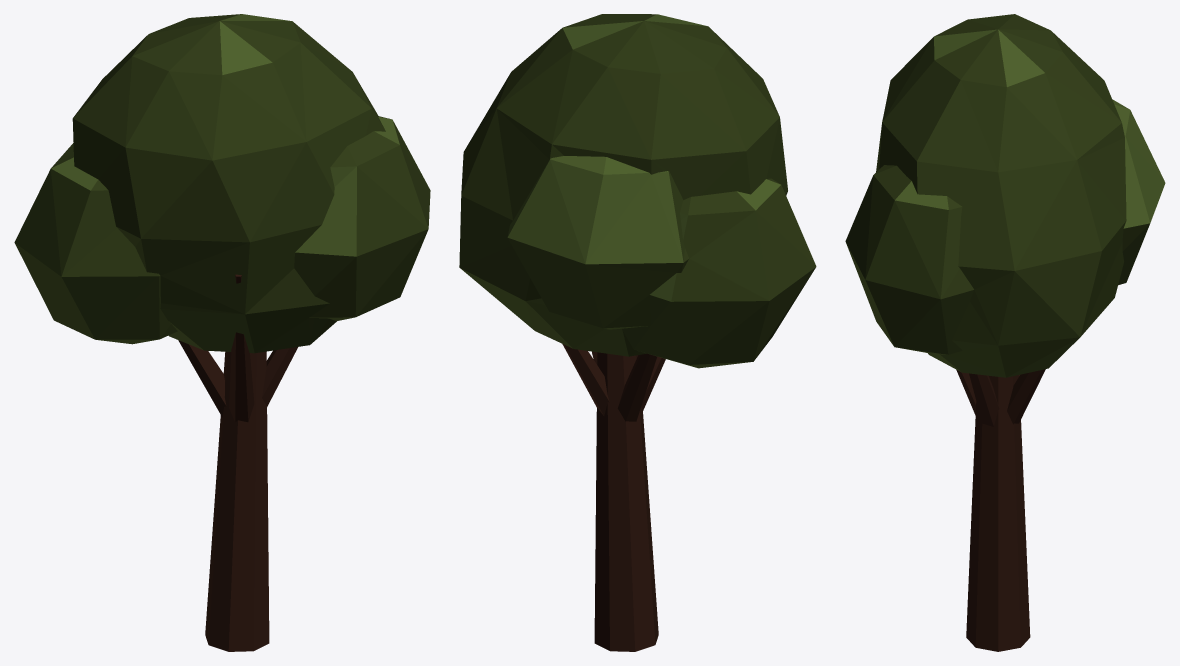
Rendered from Tree_Oak_03.fbx.
The picture shows the model from 3 angles, left to right: view 1: azimuth 30°, elevation 25°; view 2: azimuth 150°, elevation 25°; view 3: azimuth 270°, elevation 25°; orthographic projection. The views are drawn at different scales.
Visible parts, largest first — view 1: Tree_Oak_03_Foliage, Tree_Oak_03_Trunk; view 2: Tree_Oak_03_Foliage, Tree_Oak_03_Trunk; view 3: Tree_Oak_03_Foliage, Tree_Oak_03_Trunk.
Boxes of the visible parts, left/top/right/bottom form: Tree_Oak_03_Foliage: left=14, top=14, right=430, bottom=353; Tree_Oak_03_Trunk: left=178, top=274, right=297, bottom=651; Tree_Oak_03_Foliage: left=459, top=14, right=816, bottom=368; Tree_Oak_03_Trunk: left=562, top=344, right=665, bottom=651; Tree_Oak_03_Foliage: left=845, top=14, right=1165, bottom=377; Tree_Oak_03_Trunk: left=956, top=369, right=1045, bottom=651.
Bounding box in the file's own units: 4.04 × 6.95 × 3.36.
Materials: 1 (1 with a texture image).
